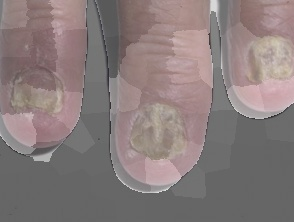Nail_psoriasis: (112, 82, 207, 175), (3, 31, 84, 126), (233, 29, 294, 98)
